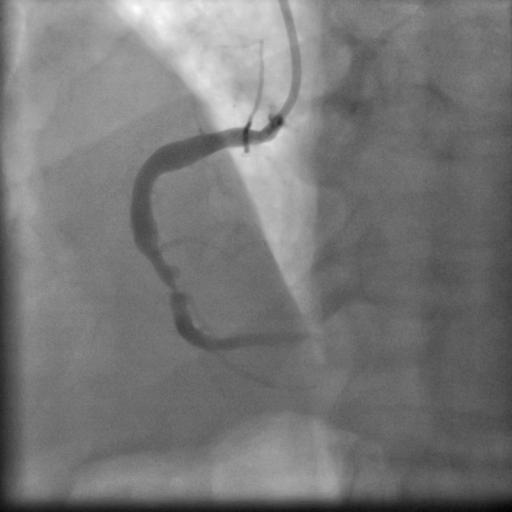Stenosis: (161, 277, 190, 302)
